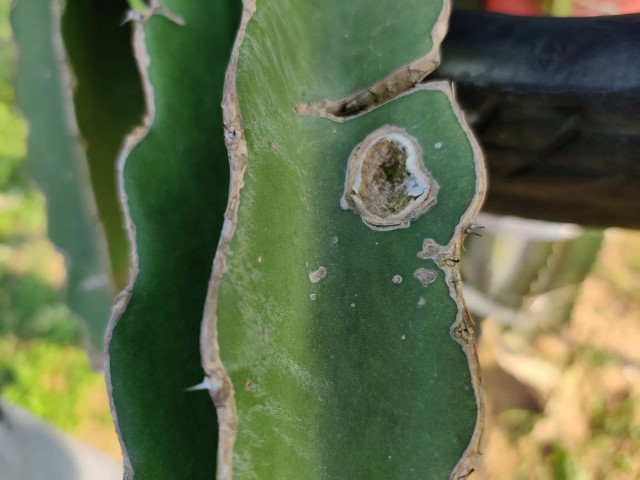stemcanker: (339, 125, 440, 232)
